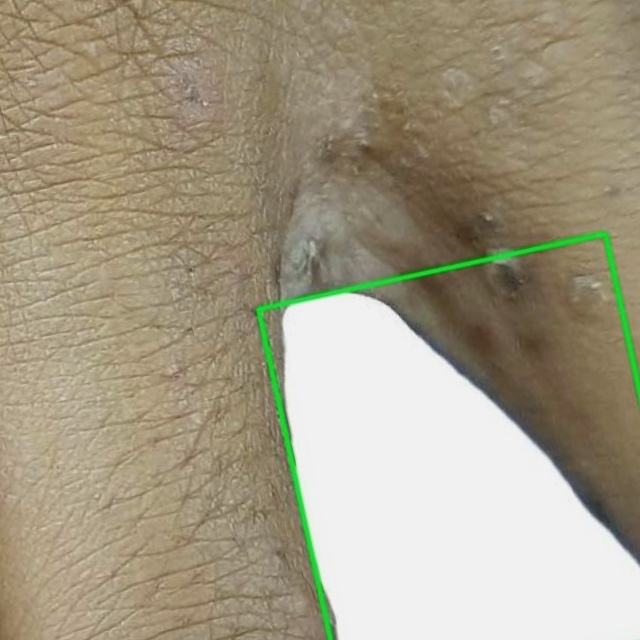Scabies: (258, 233, 639, 639)
